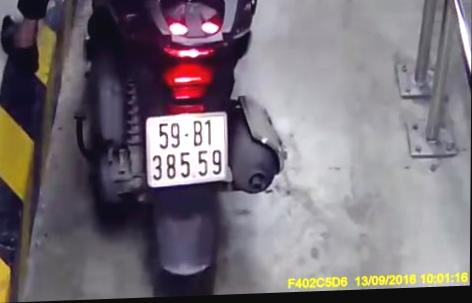License_Plate: (138, 109, 239, 186)
